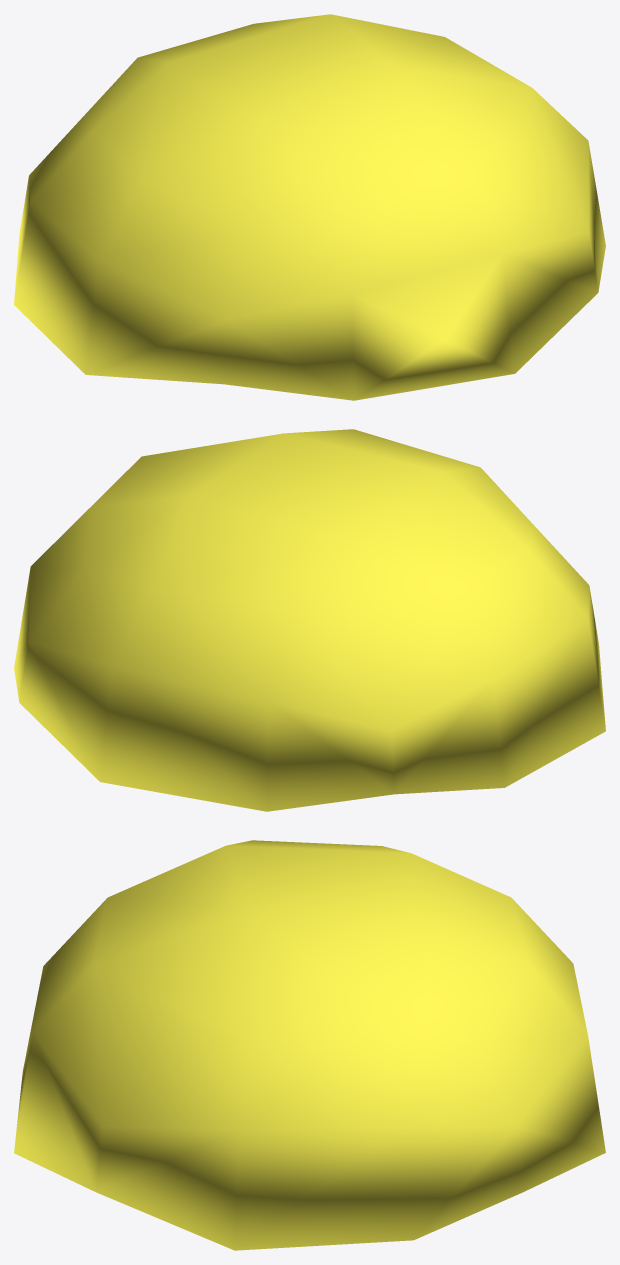
Rendered from Hair_Short_Blond.fbx.
The picture shows the model from 3 angles, top to bottom: view 1: azimuth 30°, elevation 25°; view 2: azimuth 150°, elevation 25°; view 3: azimuth 270°, elevation 25°; orthographic projection. The views are drawn at different scales.
Parts seen in each view (by area): view 1: Hair_Short_Blond; view 2: Hair_Short_Blond; view 3: Hair_Short_Blond.
Part boxes in pixels (x1,y1,x2,y2): Hair_Short_Blond: [14, 14, 605, 400]; Hair_Short_Blond: [14, 429, 605, 811]; Hair_Short_Blond: [14, 840, 605, 1250].
Size of the model in its own units: 1.49 by 1.59 by 0.6607.
